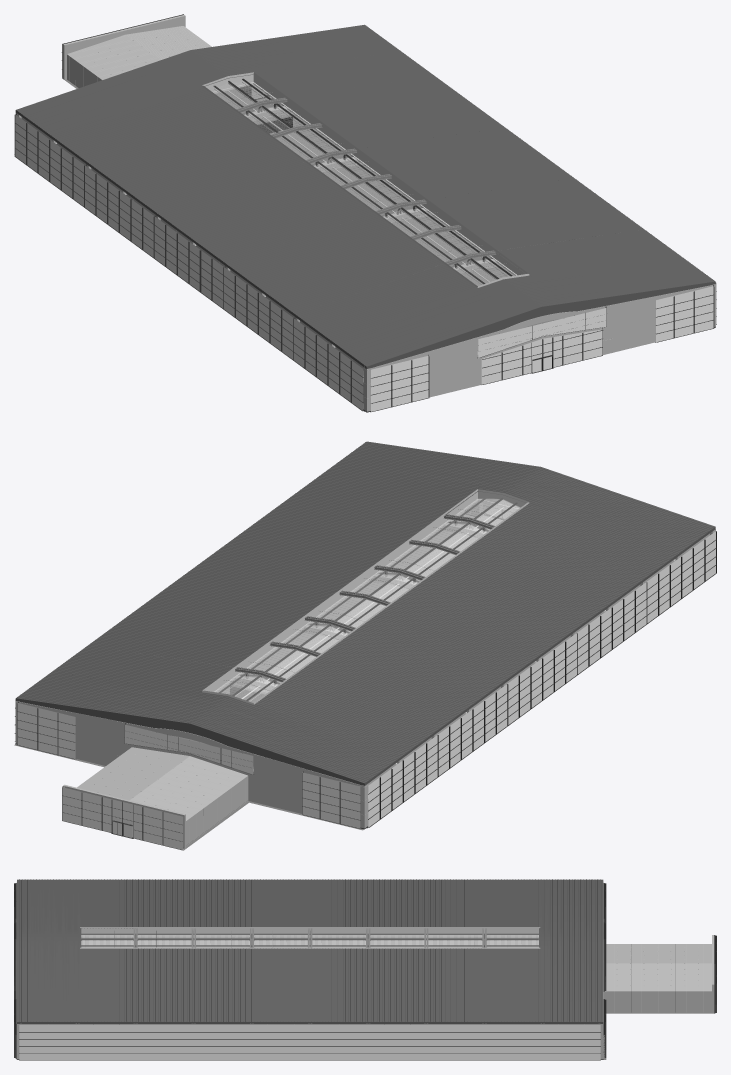
The model's file is exhibition-transformed.glb.
3 views of the same model, one above another, from view 1: azimuth 30°, elevation 25°; view 2: azimuth 150°, elevation 25°; view 3: azimuth 270°, elevation 25° (orthographic). The views are drawn at different scales.
Parts seen in each view (by area): view 1: Roof_001, Roof_005, Roof_003, Roof_004, Roof_002, Mesh152, Corridor, Window_Glass007, Mesh061 (×3), Floor, Window_Framing, Window_Glass010 (+16 smaller); view 2: Roof_005, Roof_001, Roof_003, Roof_004, Roof_002, Corridor, Mesh061 (×3), Mesh139, Window_Glass007, Floor, Window_Framing, Window_Glass016 (+16 smaller); view 3: Roof_005, Roof_001, Roof_003, Roof_002, Roof_004, Window_Glass003, Corridor, Window_Framing, Window_Glass, Window_Glass001, Window_Glass002, Mesh061 (×3) (+12 smaller).
Boxes of the visible parts, bbox=[...] form: Roof_001: bbox=[295, 229, 715, 368]; Roof_005: bbox=[15, 24, 435, 164]; Roof_003: bbox=[156, 127, 574, 265]; Roof_004: bbox=[87, 76, 504, 214]; Roof_002: bbox=[226, 178, 643, 316]; Mesh152: bbox=[363, 285, 709, 402]; Corridor: bbox=[63, 15, 248, 93]; Window_Glass007: bbox=[15, 114, 154, 257]; Mesh061 (×3): bbox=[245, 107, 491, 265]; Floor: bbox=[14, 79, 559, 408]; Window_Framing: bbox=[202, 72, 529, 287]; Window_Glass010: bbox=[481, 329, 602, 384]; Roof_005: bbox=[15, 646, 435, 785]; Roof_001: bbox=[296, 441, 715, 580]; Roof_003: bbox=[157, 544, 574, 682]; Roof_004: bbox=[87, 595, 505, 733]; Roof_002: bbox=[226, 493, 644, 631]; Corridor: bbox=[63, 747, 248, 849]; Mesh061 (×3): bbox=[238, 523, 486, 682]; Mesh139: bbox=[21, 702, 368, 818]; Window_Glass007: bbox=[368, 684, 507, 827]; Floor: bbox=[14, 514, 502, 849]; Window_Framing: bbox=[202, 489, 529, 704]; Window_Glass016: bbox=[62, 787, 183, 849]; Roof_005: bbox=[484, 879, 603, 1023]; Roof_001: bbox=[17, 879, 135, 1023]; Roof_003: bbox=[252, 879, 368, 1023]; Roof_002: bbox=[135, 879, 251, 1023]; Roof_004: bbox=[368, 879, 484, 1023]; Window_Glass003: bbox=[368, 1025, 600, 1060]; Corridor: bbox=[603, 935, 714, 1013]; Window_Framing: bbox=[80, 927, 540, 948]; Window_Glass: bbox=[19, 1025, 135, 1060]; Window_Glass001: bbox=[135, 1025, 251, 1060]; Window_Glass002: bbox=[252, 1025, 368, 1060]; Mesh061 (×3): bbox=[138, 935, 481, 947].
Size of the model in its own units: 73.54 by 12.83 by 151.
Materials: 14 (1 with a texture image).
